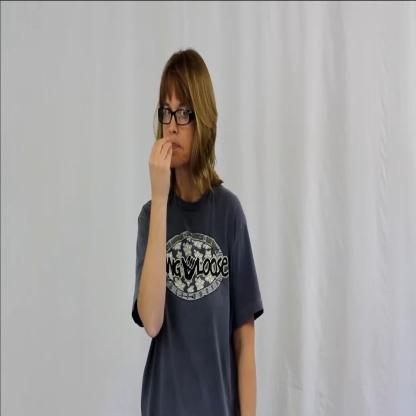Food: (145, 52, 234, 200)
